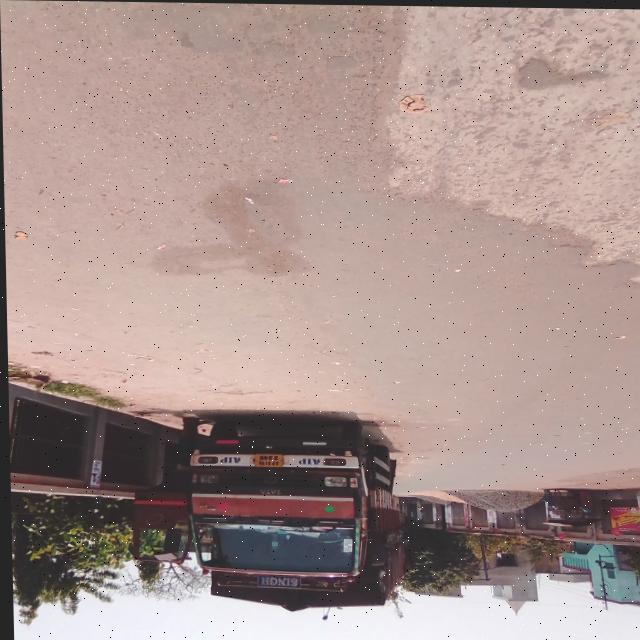plate: (251, 453, 283, 466)
